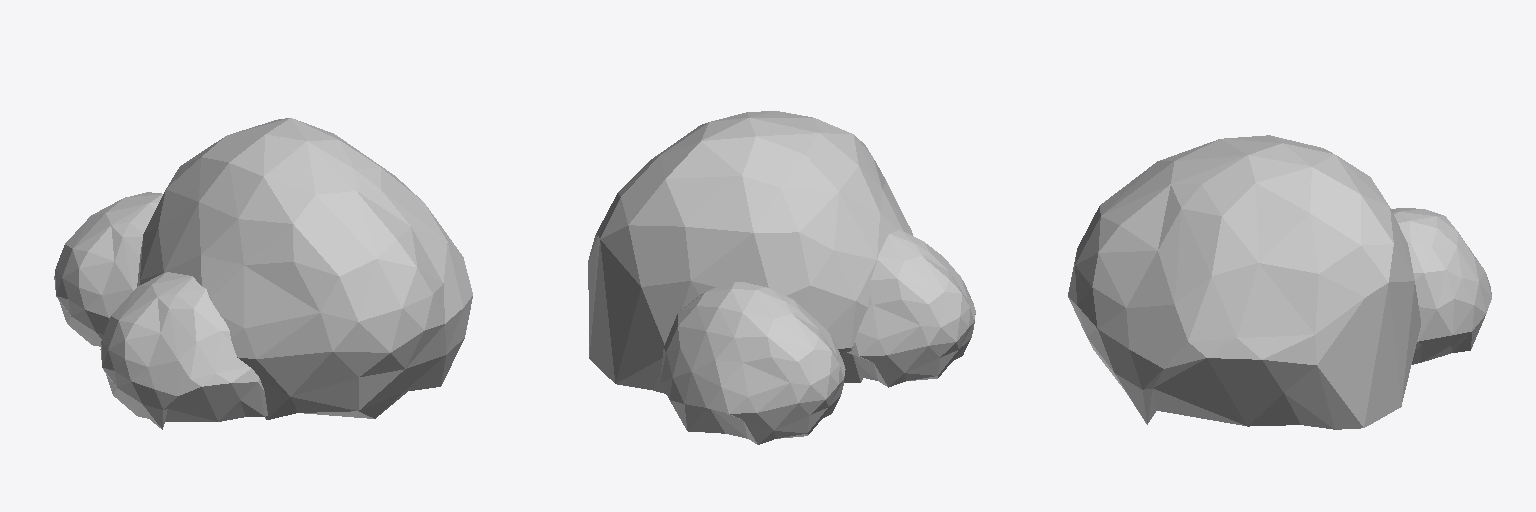
The model's file is Stone2.obj.
3 views of the same model, side by side, from view 1: azimuth 30°, elevation 25°; view 2: azimuth 150°, elevation 25°; view 3: azimuth 270°, elevation 25° (orthographic).
Visible parts, largest first — view 1: Icosphere; view 2: Icosphere; view 3: Icosphere.
Part boxes in pixels (left/top/right/bottom): Icosphere: left=54, top=118, right=472, bottom=429; Icosphere: left=588, top=111, right=975, bottom=444; Icosphere: left=1068, top=135, right=1491, bottom=429.
Size of the model in its own units: 4.07 by 2.68 by 4.36.